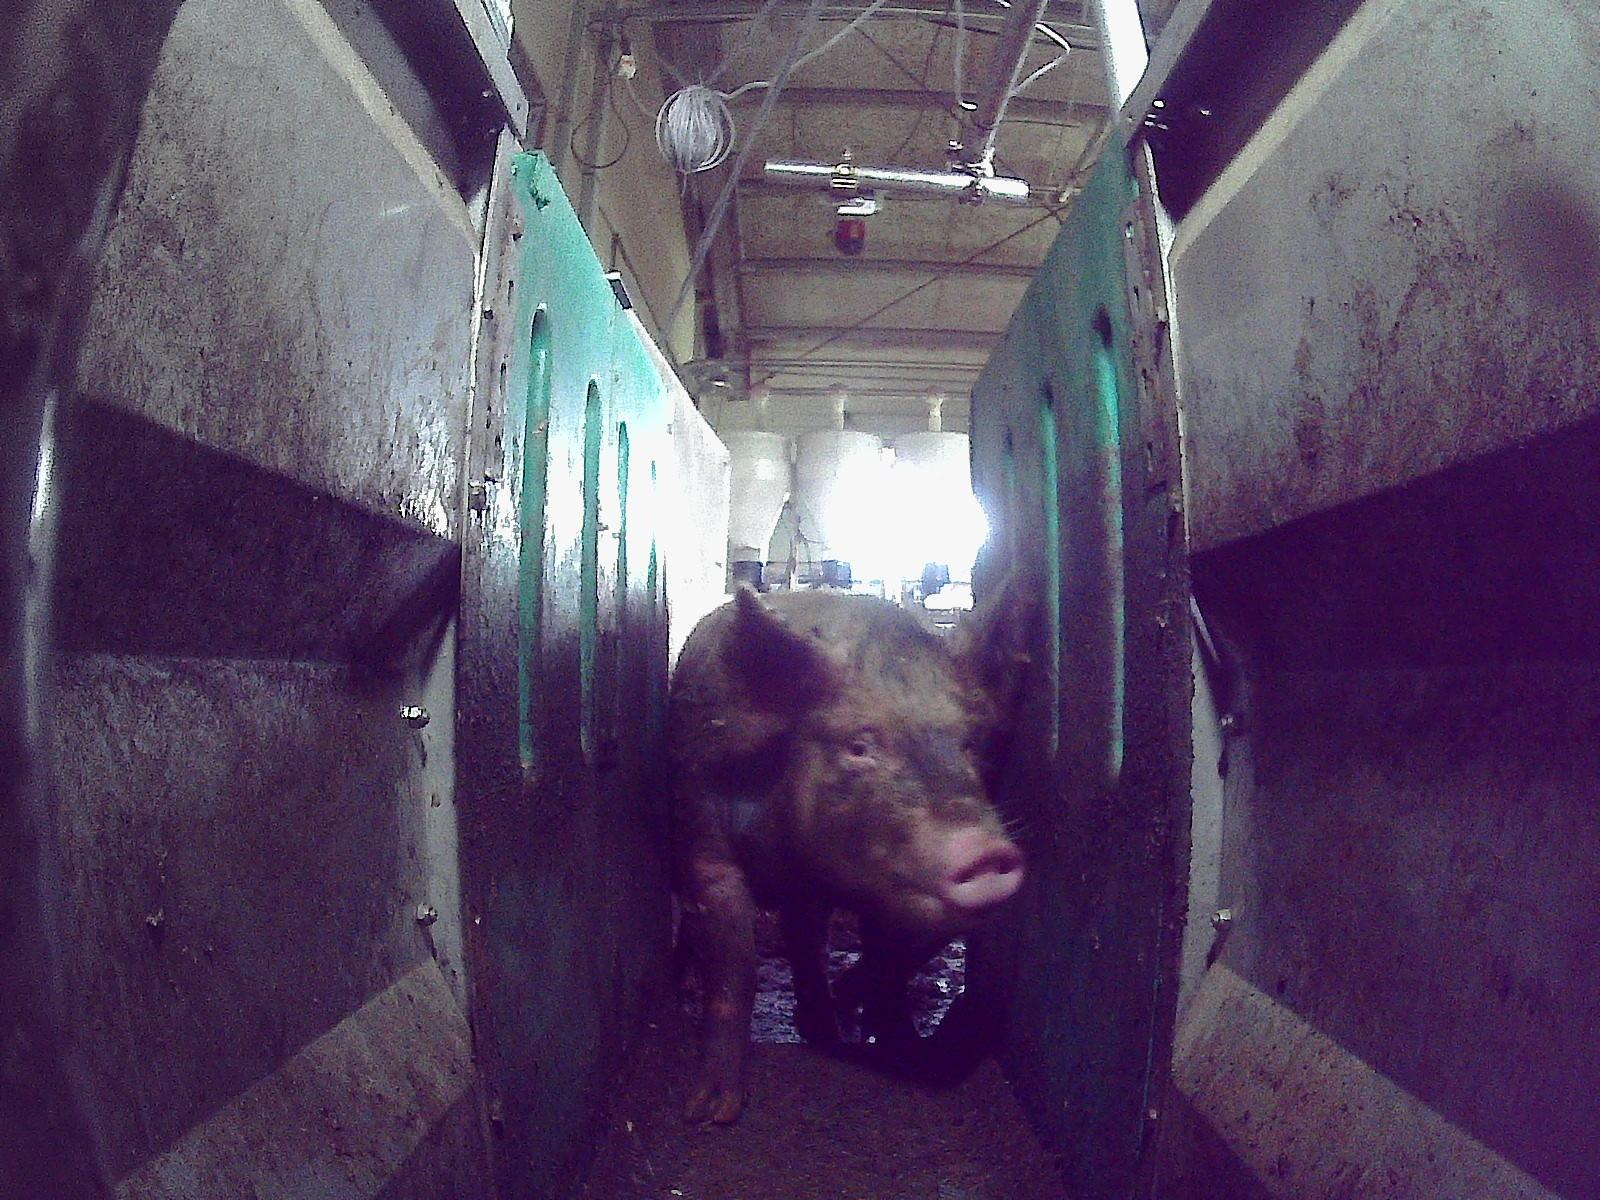Face: (739, 609, 1026, 932)
